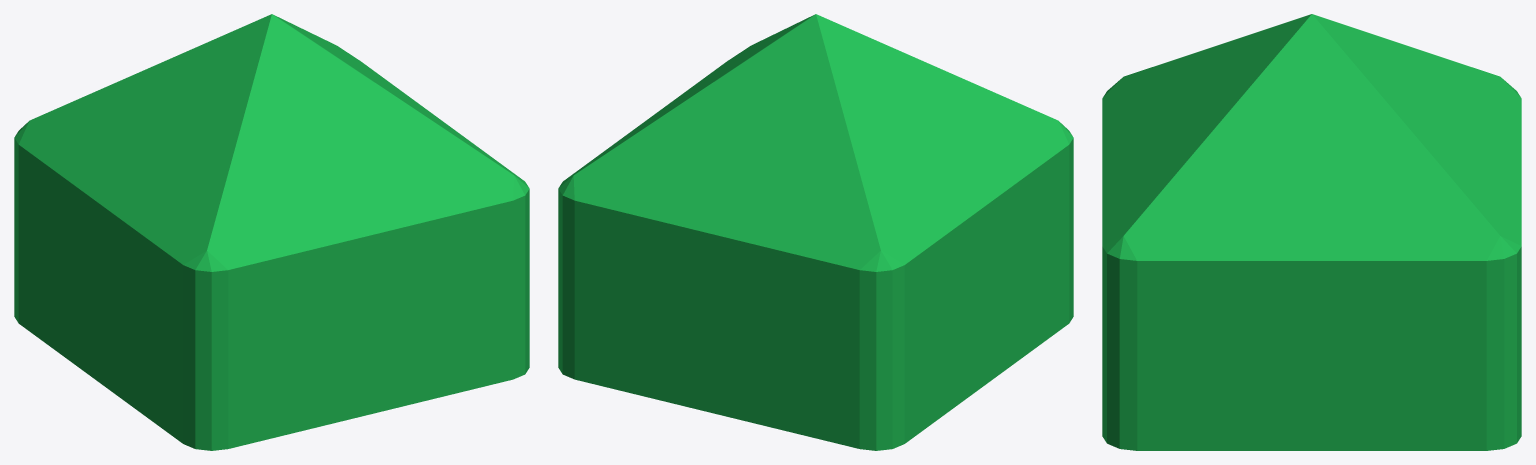
3 renders of one model, left to right at view 1: azimuth 30°, elevation 25°; view 2: azimuth 150°, elevation 25°; view 3: azimuth 270°, elevation 25°, orthographic. The views are drawn at different scales.
Parts seen in each view (by area): view 1: Cube; view 2: Cube; view 3: Cube.
Part boxes in pixels (x1,y1,x2,y2): Cube: [14, 14, 529, 450]; Cube: [558, 14, 1073, 450]; Cube: [1102, 14, 1521, 450].
Bounding box in the file's own units: 60 × 55 × 60.
